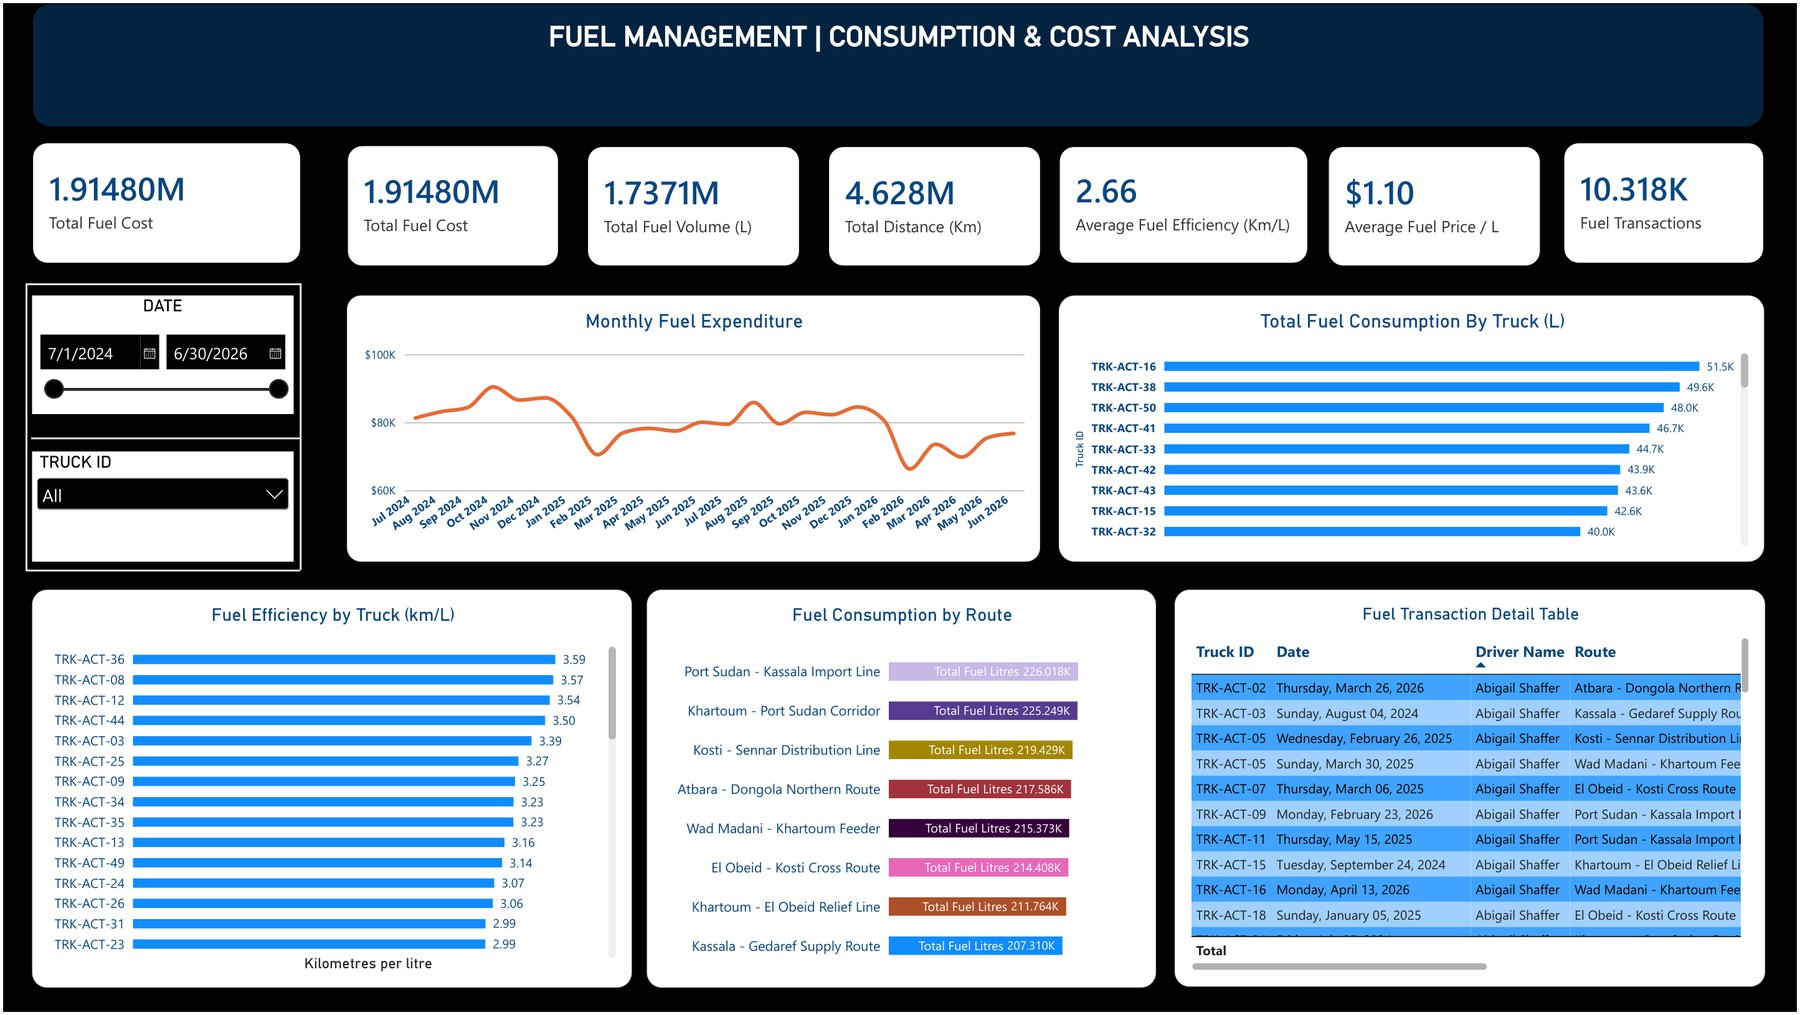

This screenshot's page, from the dashboard's own definition file:
{"tool":"powerbi","page":{"name":"Fuel","canvas":[1920,1080],"ordinal":1},"visuals":[{"type":"textbox","box":[0,0,1920,96],"z":0},{"type":"slicer","fields":{"Values":["DimDate.Date"]},"box":[1150,12,470,72],"z":100},{"type":"slicer","fields":{"Values":["DimTruck.Truck ID"]},"box":[1636,12,260,72],"z":101},{"type":"card","fields":{"Values":["_Measures_.Total Fuel Cost"]},"box":[24,112,298.7,112],"z":1000},{"type":"card","fields":{"Values":["_Measures_.Total Fuel Litres"]},"box":[338.7,112,298.7,112],"z":1001},{"type":"card","fields":{"Values":["_Measures_.Average Fuel Efficiency"]},"box":[653.3,112,298.7,112],"z":1002},{"type":"card","fields":{"Values":["_Measures_.Average Fuel Price"]},"box":[968,112,298.7,112],"z":1003},{"type":"card","fields":{"Values":["_Measures_.Fuel Cost per KM"]},"box":[1282.7,112,298.7,112],"z":1004},{"type":"card","fields":{"Values":["_Measures_.Duplicate Coupon Numbers"]},"box":[1597.3,112,298.7,112],"z":1005},{"type":"card","fields":{"Values":["_Measures_.Insight - Fuel"]},"box":[24,238,1872,62],"z":1100},{"type":"lineChart","title":"Monthly fuel cost","fields":{"Category":["DimDate.Month Year"],"Y":["_Measures_.Total Fuel Cost"]},"box":[24,316,1100,360],"z":2000},{"type":"clusteredBarChart","title":"10 least fuel-efficient trucks (km/L)","fields":{"Category":["DimTruck.Truck ID"],"Y":["_Measures_.Average Fuel Efficiency"]},"box":[1140,316,756,360],"z":2001},{"type":"clusteredBarChart","title":"Fuel cost per km by route","fields":{"Category":["Fuel.Route"],"Y":["_Measures_.Fuel Cost per KM"]},"box":[24,692,760,364],"z":2002},{"type":"tableEx","title":"Fuel records sharing a coupon number (to check)","fields":{"Values":["Fuel.Coupon #","Fuel.Date","Fuel.Truck ID","Fuel.Driver Name","Fuel.Pump Location","_Measures_.Total Fuel Litres","_Measures_.Total Fuel Cost"]},"box":[800,692,1096,364],"z":2003}]}

Visuals, with their boxes in screenshot pixels (x1, y1, x2, y2), scaled from the page's 1920x1080 canvas onto the 1800x1015 screenshot:
textbox: Rect(0, 0, 1799, 90)
slicer - DimDate.Date: Rect(1078, 11, 1519, 79)
slicer - DimTruck.Truck ID: Rect(1534, 11, 1778, 79)
card - _Measures_.Total Fuel Cost: Rect(22, 105, 303, 211)
card - _Measures_.Total Fuel Litres: Rect(318, 105, 598, 211)
card - _Measures_.Average Fuel Efficiency: Rect(612, 105, 892, 211)
card - _Measures_.Average Fuel Price: Rect(908, 105, 1188, 211)
card - _Measures_.Fuel Cost per KM: Rect(1203, 105, 1483, 211)
card - _Measures_.Duplicate Coupon Numbers: Rect(1497, 105, 1778, 211)
card - _Measures_.Insight - Fuel: Rect(22, 224, 1778, 282)
"Monthly fuel cost" lineChart: Rect(22, 297, 1054, 635)
"10 least fuel-efficient trucks (km/L)" clusteredBarChart: Rect(1069, 297, 1778, 635)
"Fuel cost per km by route" clusteredBarChart: Rect(22, 650, 735, 992)
"Fuel records sharing a coupon number (to check)" tableEx: Rect(750, 650, 1778, 992)
